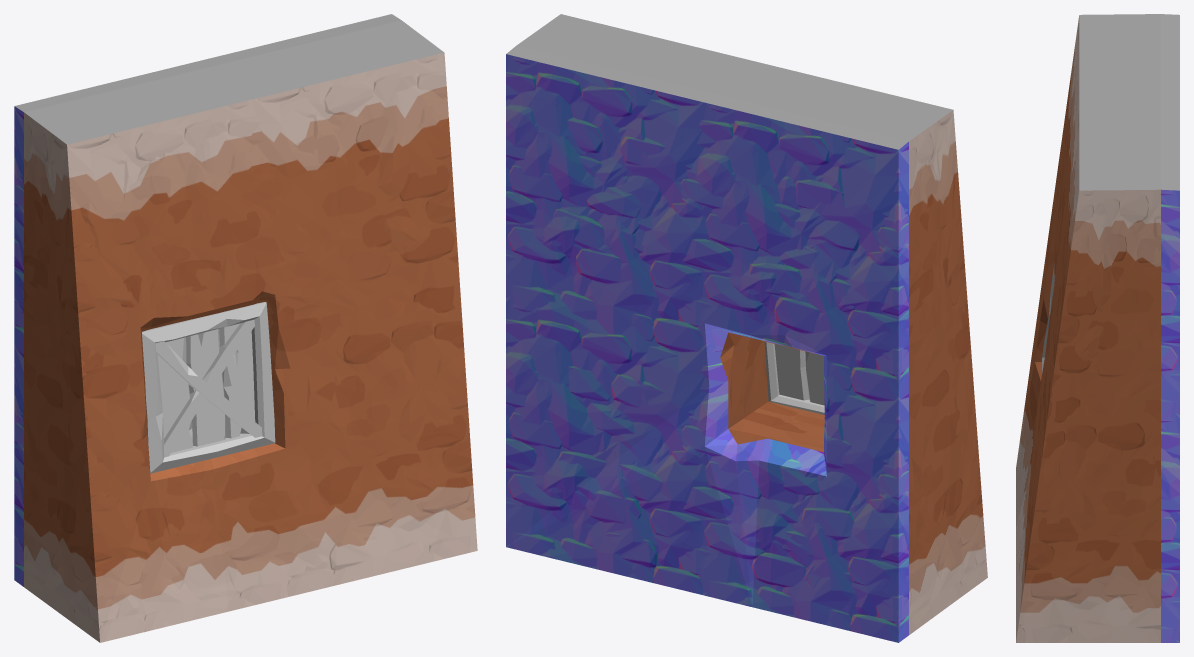
Rendered from SM_Bld_Wall_Ground_Window_02.fbx.
3 renders of one model, left to right at view 1: azimuth 30°, elevation 25°; view 2: azimuth 150°, elevation 25°; view 3: azimuth 270°, elevation 25°, orthographic. The views are drawn at different scales.
Visible parts, largest first — view 1: SM_Bld_Wall_Ground_Window_02; view 2: SM_Bld_Wall_Ground_Window_02; view 3: SM_Bld_Wall_Ground_Window_02.
Part boxes in pixels (x1=…): SM_Bld_Wall_Ground_Window_02: x1=14, y1=14, x2=477, y2=642; SM_Bld_Wall_Ground_Window_02: x1=506, y1=14, x2=987, y2=642; SM_Bld_Wall_Ground_Window_02: x1=1016, y1=14, x2=1179, y2=642.
Size of the model in its own units: 250 by 301 by 98.39.
